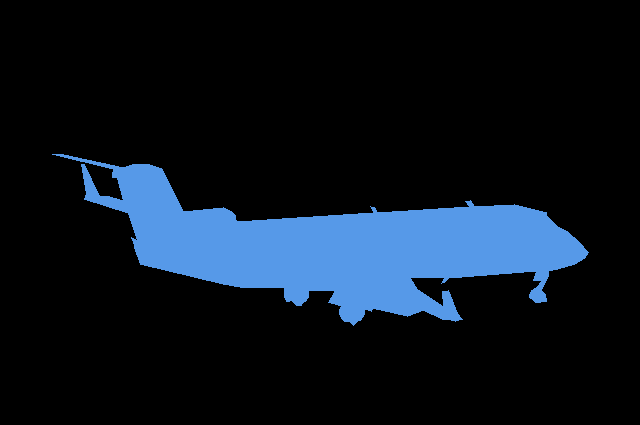Airplane: (52, 154, 589, 325)
